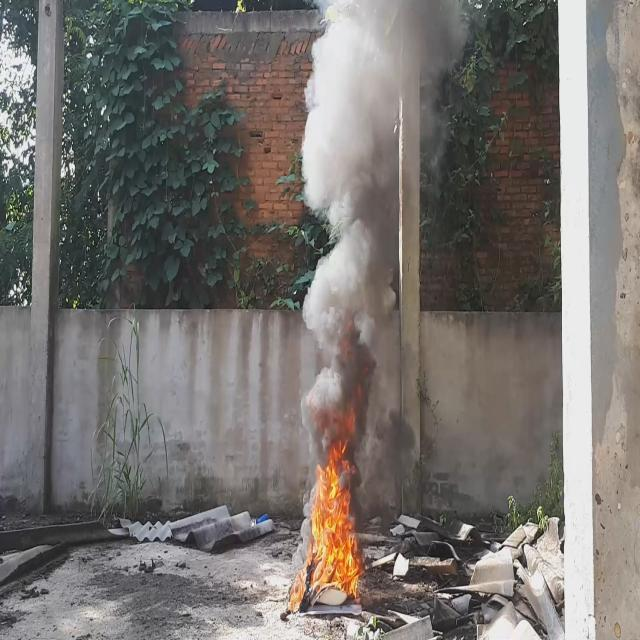Fire: (289, 440, 367, 612)
Smoke: (300, 0, 468, 463)
